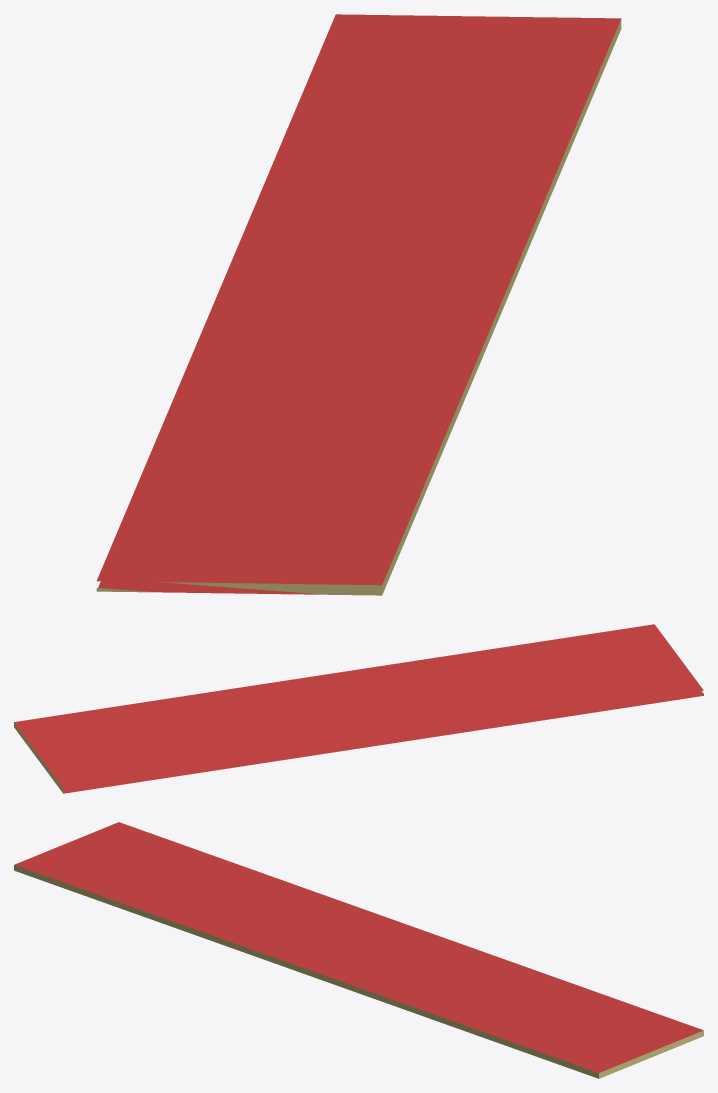
3 views of the same model, one above another, from view 1: azimuth 30°, elevation 25°; view 2: azimuth 150°, elevation 25°; view 3: azimuth 270°, elevation 25° (orthographic). The views are drawn at different scales.
Size of the model in its own units: 9.65 by 10.78 by 0.27.
